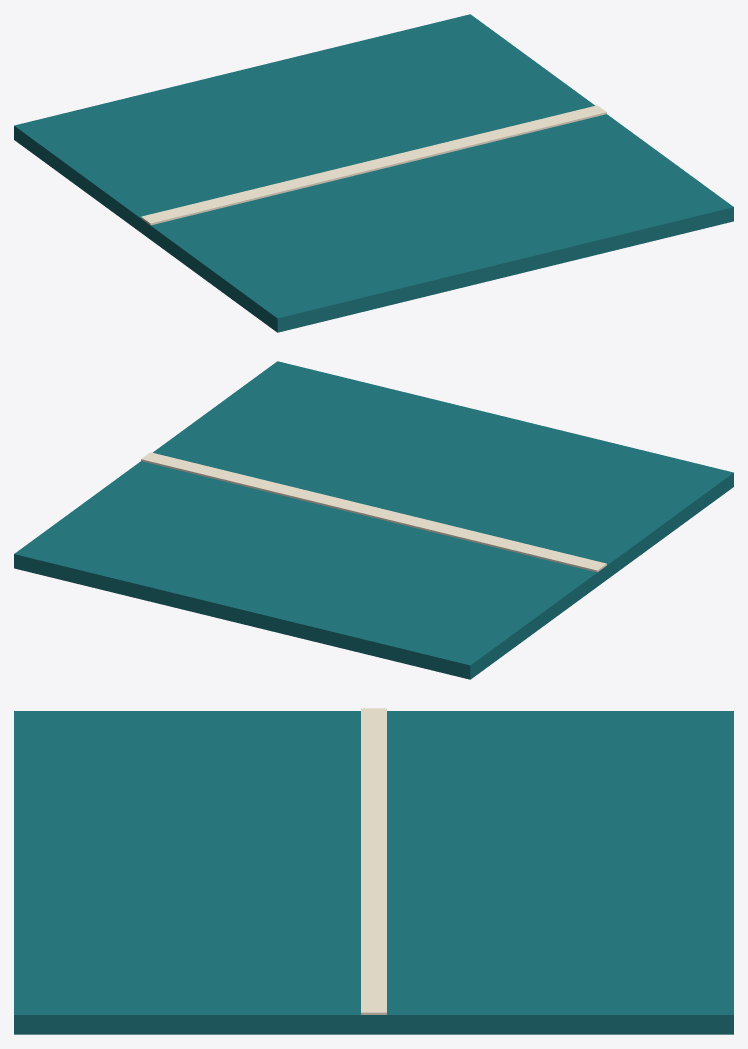
The model's file is court_tile_straight.glb.
The picture shows the model from 3 angles, top to bottom: view 1: azimuth 30°, elevation 25°; view 2: azimuth 150°, elevation 25°; view 3: azimuth 270°, elevation 25°; orthographic projection. The views are drawn at different scales.
Parts seen in each view (by area): view 1: court_tile_straight; view 2: court_tile_straight; view 3: court_tile_straight.
Boxes of the visible parts, <box> form: court_tile_straight: <box>14,14,733,332</box>; court_tile_straight: <box>14,361,733,679</box>; court_tile_straight: <box>14,708,733,1034</box>.
Size of the model in its own units: 2 by 0.068 by 2.
